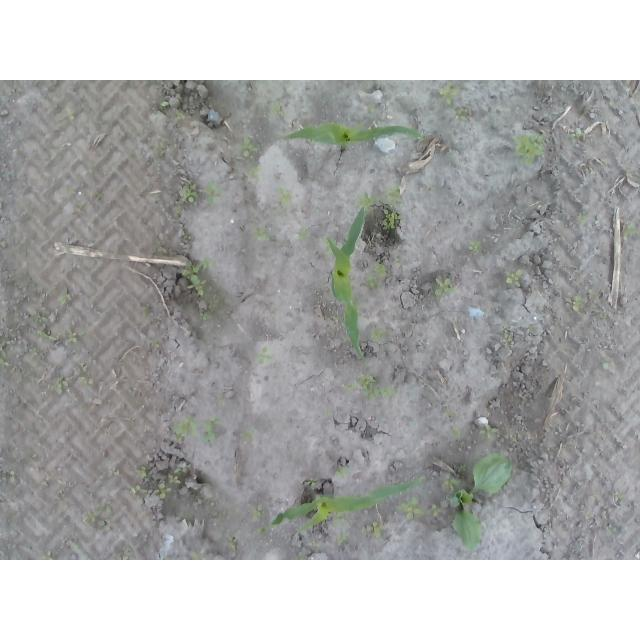Maize: (265, 473, 427, 531), (323, 206, 369, 367), (282, 121, 425, 147)
Weeds: (440, 451, 513, 553), (174, 414, 219, 447), (508, 130, 548, 167), (180, 259, 217, 297), (177, 180, 224, 209), (347, 373, 396, 400), (365, 256, 400, 289), (158, 463, 190, 499), (237, 133, 263, 176), (391, 495, 427, 521), (359, 187, 402, 207), (32, 309, 56, 339), (438, 82, 465, 107), (334, 511, 352, 545), (131, 462, 149, 494), (379, 206, 402, 231), (431, 275, 458, 296), (503, 268, 524, 289), (274, 184, 294, 206), (254, 345, 274, 366), (359, 519, 381, 537), (367, 325, 385, 347), (499, 322, 514, 347), (569, 294, 588, 312), (478, 422, 499, 438), (252, 224, 272, 240), (248, 503, 264, 522), (455, 105, 470, 124), (567, 128, 590, 140), (332, 466, 353, 479), (623, 222, 639, 239), (82, 512, 99, 528), (296, 223, 310, 241), (575, 209, 590, 225), (227, 534, 239, 554), (141, 303, 156, 318), (466, 238, 480, 254), (447, 426, 461, 442), (144, 336, 161, 349), (429, 503, 443, 518), (57, 292, 72, 305), (272, 98, 284, 114), (52, 378, 64, 394), (160, 98, 177, 109), (190, 550, 208, 560), (207, 296, 218, 312), (302, 478, 319, 488), (78, 375, 95, 385), (241, 429, 254, 442), (0, 348, 8, 368), (172, 207, 184, 220), (598, 358, 610, 370), (367, 102, 378, 115), (71, 199, 81, 213), (255, 525, 269, 535), (216, 393, 225, 408), (70, 543, 82, 554), (67, 332, 78, 344), (42, 550, 55, 560), (112, 465, 121, 479), (613, 490, 624, 501), (607, 525, 618, 536), (28, 347, 40, 357), (8, 470, 17, 483), (292, 552, 305, 561), (199, 311, 209, 322), (66, 108, 75, 120), (175, 111, 185, 121), (311, 539, 321, 549), (96, 191, 105, 202), (159, 142, 165, 158), (323, 408, 333, 417), (510, 434, 518, 443), (296, 526, 304, 534)
